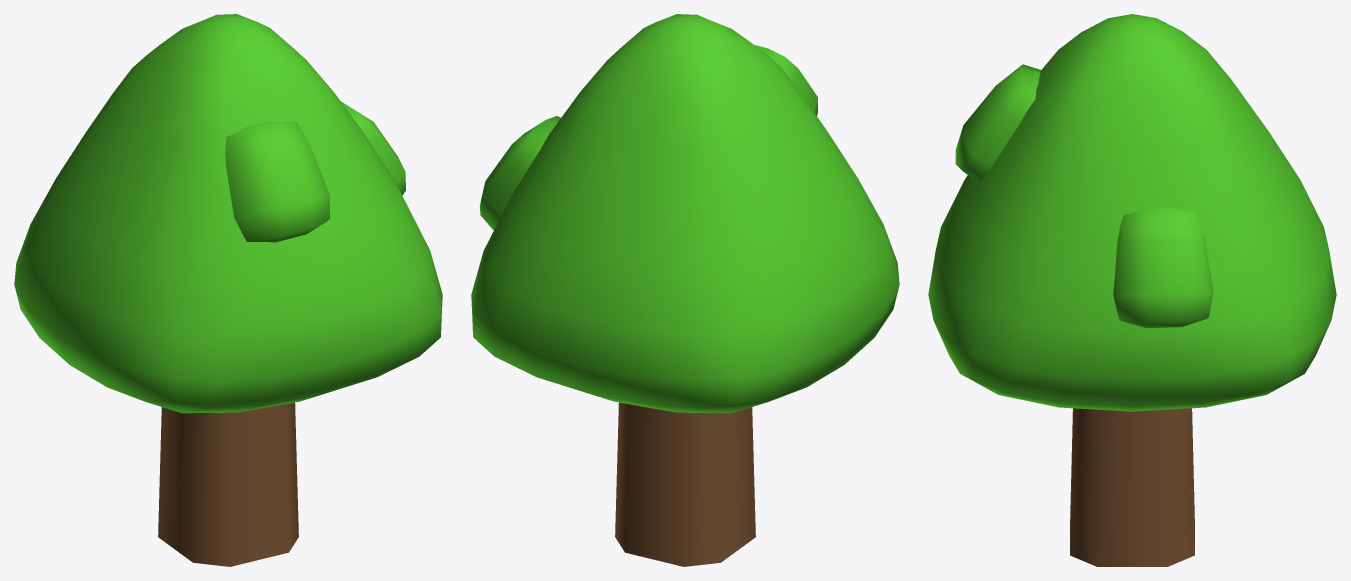
File: tree03_s02.FBX
3 views of the same model, side by side, from view 1: azimuth 30°, elevation 25°; view 2: azimuth 150°, elevation 25°; view 3: azimuth 270°, elevation 25° (orthographic).
Visible parts, largest first — view 1: tree03_s02; view 2: tree03_s02; view 3: tree03_s02.
Part boxes in pixels (box(x1,y1,x2,y2)): tree03_s02: box(14, 14, 442, 566); tree03_s02: box(471, 14, 899, 566); tree03_s02: box(928, 14, 1336, 566).
Bounding box in the file's own units: 194 × 192 × 270.
Materials: 1 (1 with a texture image).
